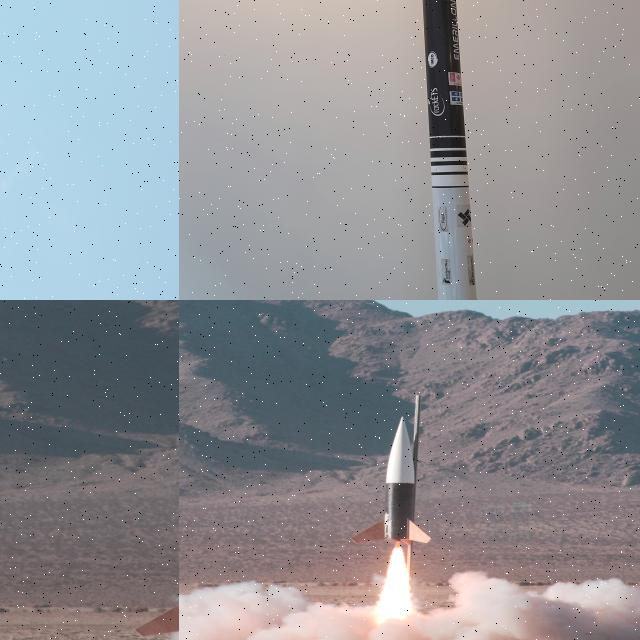Rocket: (422, 0, 477, 300), (350, 415, 433, 547), (134, 461, 179, 640)
